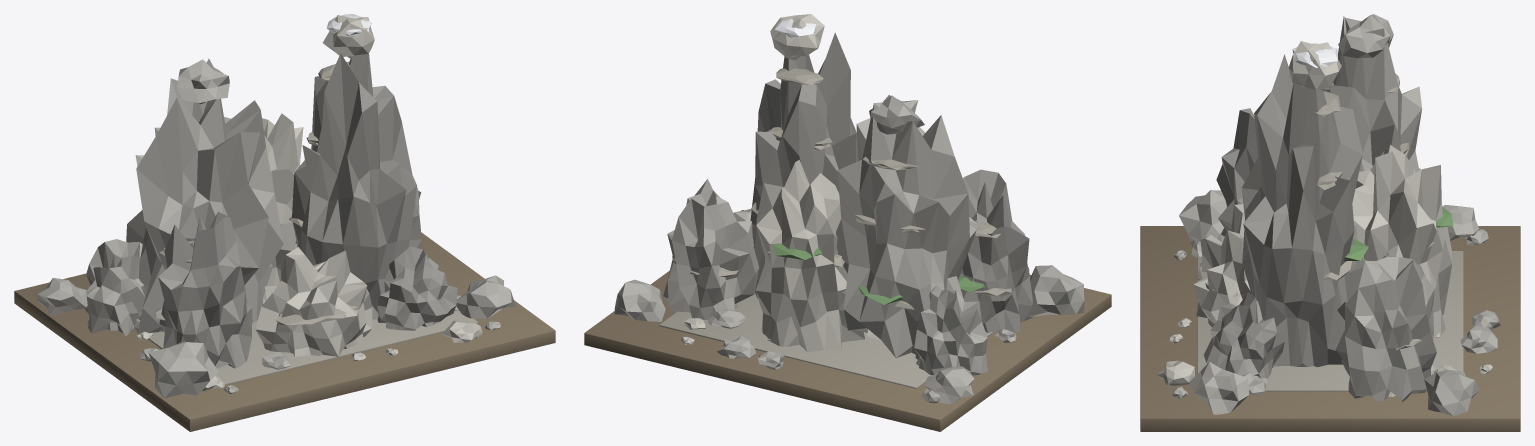
File: th26_felsformation.glb
3 renders of one model, left to right at view 1: azimuth 30°, elevation 25°; view 2: azimuth 150°, elevation 25°; view 3: azimuth 270°, elevation 25°, orthographic. The views are drawn at different scales.
Parts seen in each view (by area): view 1: Cube, Felskoerper, Felskoerper.001, Felskoerper.003, Felskoerper.005, Felskoerper.006, Felskoerper.007, Cube.001, Felskoerper.002, Brocken.026, Brocken.027, Felskoerper.009 (+4 smaller); view 2: Felskoerper, Cube, Felskoerper.002, Felskoerper.001, Felskoerper.004, Felskoerper.003, Cube.001, Felskoerper.007, Brocken.026, Brocken.028, Felskoerper.008, Felskoerper.009 (+4 smaller); view 3: Cube, Felskoerper.001, Felskoerper.004, Felskoerper.002, Felskoerper, Cube.001, Felskoerper.006, Felskoerper.005, Felskoerper.003, Brocken.027, Brocken.028, Felskoerper.009 (+8 smaller).
Boxes of the visible parts, left/top/right/bottom form: Cube: left=14, top=232, right=555, bottom=431; Felskoerper: left=126, top=58, right=283, bottom=334; Felskoerper.001: left=292, top=53, right=416, bottom=319; Felskoerper.003: left=158, top=211, right=252, bottom=368; Felskoerper.005: left=255, top=247, right=372, bottom=356; Felskoerper.006: left=376, top=246, right=457, bottom=330; Felskoerper.007: left=85, top=239, right=145, bottom=336; Cube.001: left=148, top=310, right=478, bottom=385; Felskoerper.002: left=262, top=113, right=303, bottom=301; Brocken.026: left=148, top=341, right=218, bottom=398; Brocken.027: left=456, top=275, right=515, bottom=318; Felskoerper.009: left=177, top=59, right=229, bottom=104; Felskoerper: left=836, top=102, right=977, bottom=357; Cube: left=584, top=270, right=1111, bottom=431; Felskoerper.002: left=755, top=159, right=864, bottom=351; Felskoerper.001: left=750, top=32, right=857, bottom=298; Felskoerper.004: left=663, top=179, right=759, bottom=319; Felskoerper.003: left=959, top=169, right=1033, bottom=332; Cube.001: left=659, top=293, right=992, bottom=388; Felskoerper.007: left=914, top=285, right=987, bottom=375; Brocken.026: left=1027, top=265, right=1084, bottom=317; Brocken.028: left=614, top=279, right=665, bottom=321; Felskoerper.008: left=770, top=14, right=824, bottom=60; Felskoerper.009: left=869, top=95, right=924, bottom=134; Cube: left=1140, top=226, right=1520, bottom=431; Felskoerper.001: left=1241, top=54, right=1365, bottom=367; Felskoerper.004: left=1335, top=255, right=1436, bottom=401; Felskoerper.002: left=1352, top=145, right=1452, bottom=338; Felskoerper: left=1326, top=16, right=1422, bottom=172; Cube.001: left=1197, top=251, right=1463, bottom=391; Felskoerper.006: left=1204, top=292, right=1284, bottom=378; Felskoerper.005: left=1193, top=204, right=1251, bottom=327; Felskoerper.003: left=1216, top=108, right=1257, bottom=236; Brocken.027: left=1188, top=362, right=1249, bottom=414; Brocken.028: left=1424, top=370, right=1479, bottom=416; Felskoerper.009: left=1338, top=14, right=1393, bottom=58.
Bounding box in the file's own units: 18.1 × 14 × 15.
